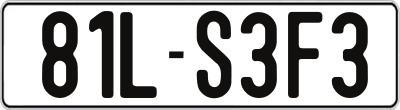1: (89, 10, 119, 97)
3: (238, 9, 279, 96), (332, 9, 370, 97)
8: (39, 9, 81, 98)
F: (286, 12, 320, 99)
L: (120, 9, 159, 98)
S: (197, 11, 233, 98)
